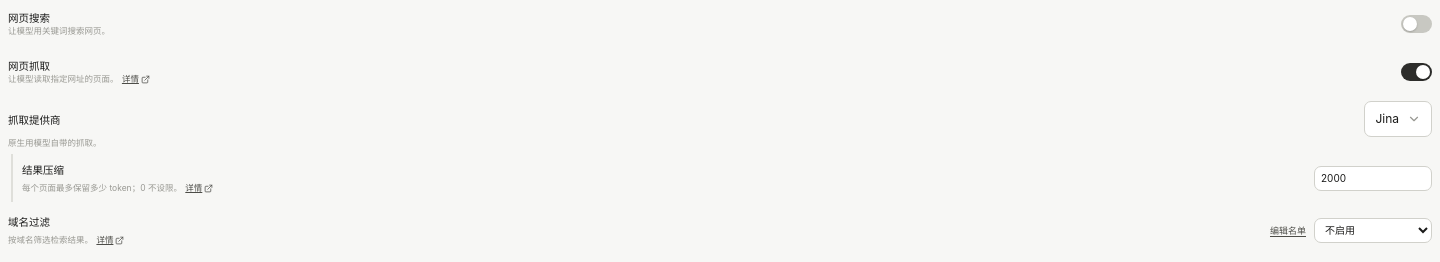
Test: WebSearchBehaviorSettings › with the surface's own web access switch › turns access off with the last leg that names a backend, leaving that backend in place
This screenshot has width=1440, height=262.
expect the switch named "网页搜索已" is not checked: met, box x1=1401 y1=15 x2=1432 y2=33
Click the switch named "网页抓取已".
click(1416, 72)  # box x1=1401 y1=63 x2=1432 y2=81
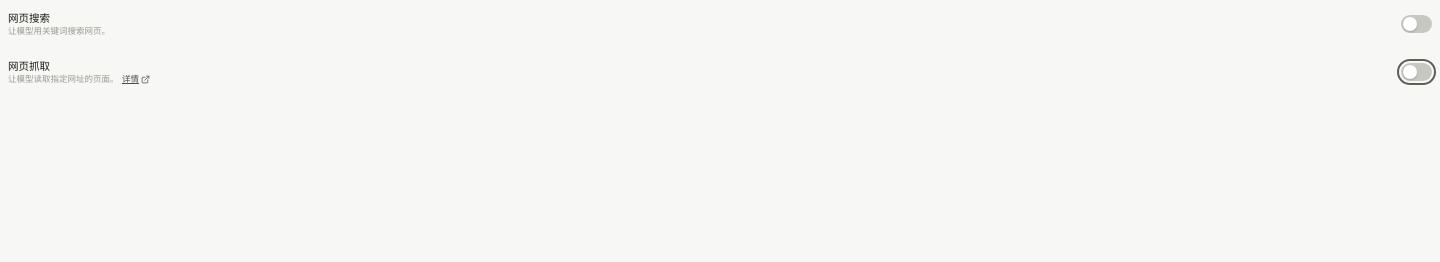
expect the switch named "网页搜索已" is not checked: met, box x1=1401 y1=15 x2=1432 y2=33
expect the switch named "网页抓取已" is not checked: met, box x1=1401 y1=63 x2=1432 y2=81
expect the text "域名过滤" is gone: met
